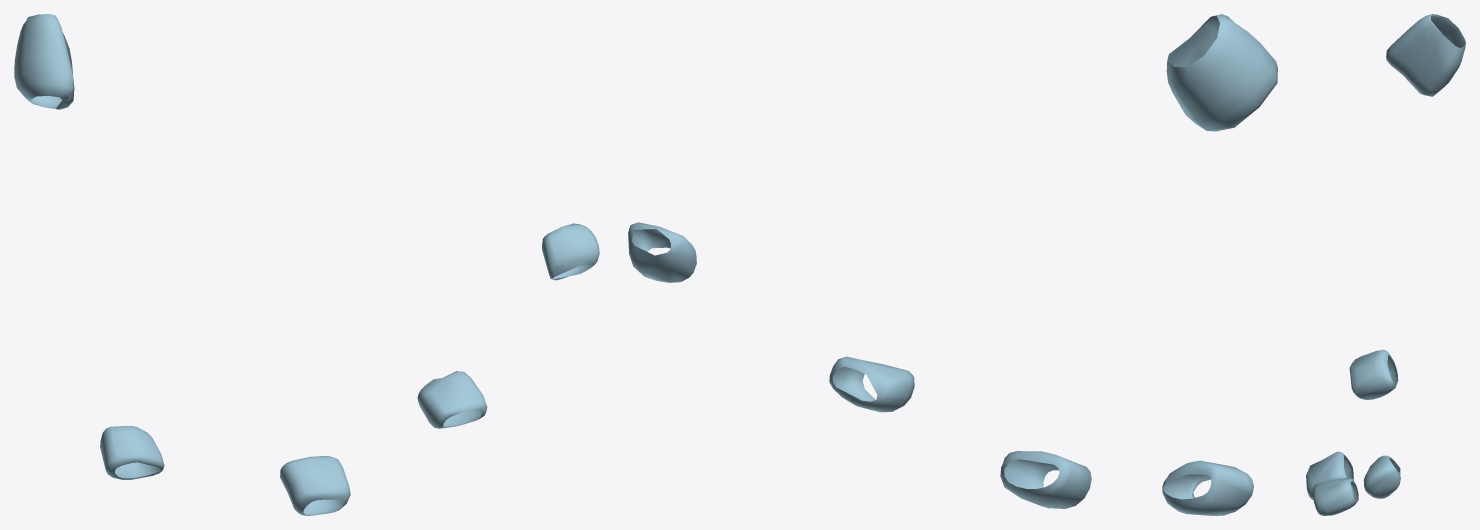
File: articulacoes-articular-capsules-of-distal-interphalangeal-joints-r.glb
3 views of the same model, side by side, from view 1: azimuth 30°, elevation 25°; view 2: azimuth 150°, elevation 25°; view 3: azimuth 270°, elevation 25° (orthographic). The views are drawn at different scales.
Visible parts, largest first — view 1: Articular capsules of distal interphalangeal joints.r; view 2: Articular capsules of distal interphalangeal joints.r; view 3: Articular capsules of distal interphalangeal joints.r.
Part boxes in pixels (box(x1,y1,x2,y2)): Articular capsules of distal interphalangeal joints.r: box(14, 14, 599, 515); Articular capsules of distal interphalangeal joints.r: box(628, 14, 1277, 515); Articular capsules of distal interphalangeal joints.r: box(1306, 14, 1465, 515).
Bounding box in the file's own units: 0.1052 × 0.0918 × 0.033.
